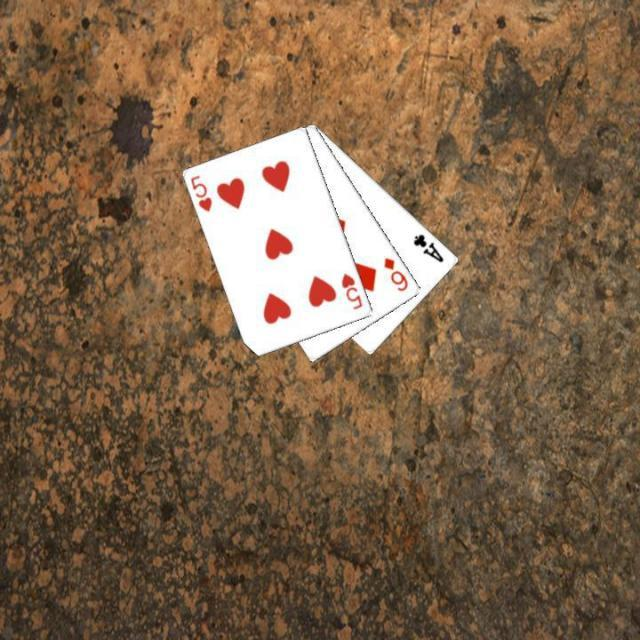5H: (187, 172, 215, 214), (338, 269, 364, 311)
6D: (380, 254, 410, 294)
AC: (410, 230, 446, 264)
